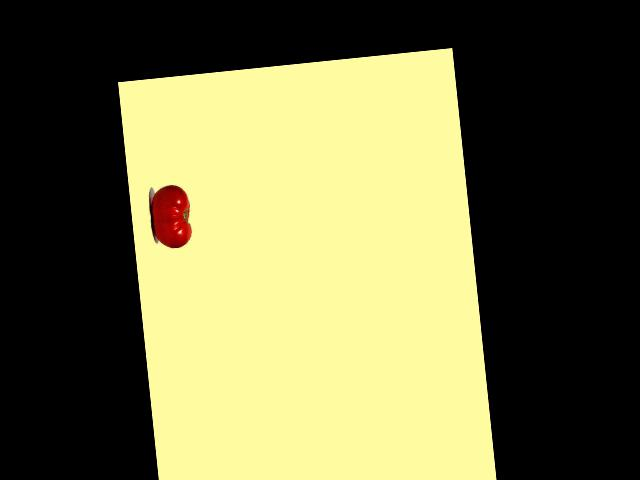tomato: (149, 184, 193, 250)
